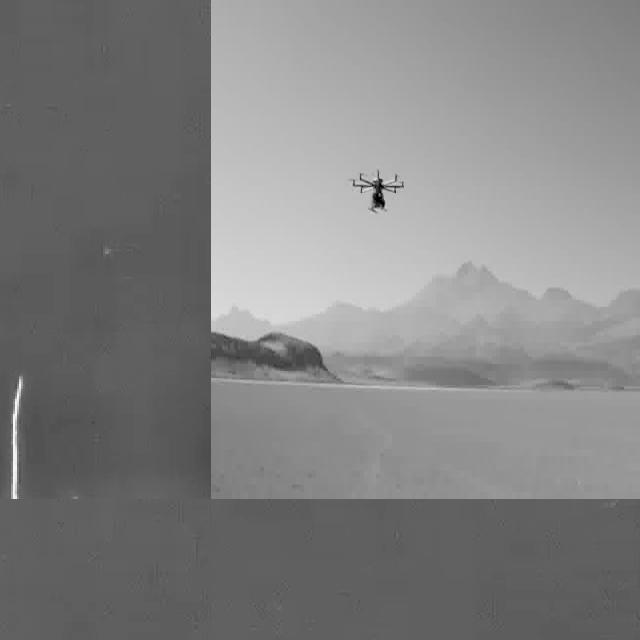0: (93, 243, 115, 270)
drone: (349, 163, 406, 218)
